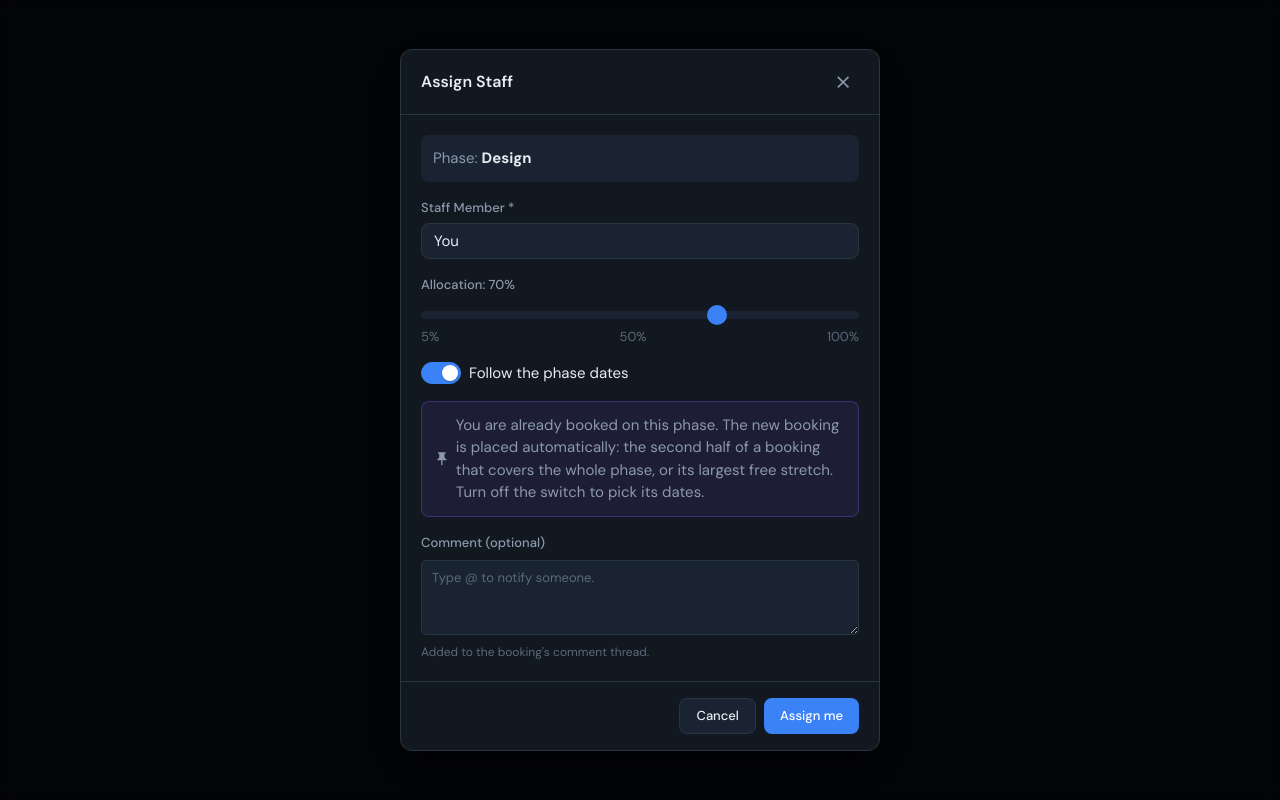
Test: AssignmentModal: my own second booking ("Assign me again…") › sends both dates with the switch off, and shows a refused placement with the dialog still open
Click the switch labelled "Follow the phase dates" at x=428, y=374, box x1=420 y1=366 x2=436 y2=382
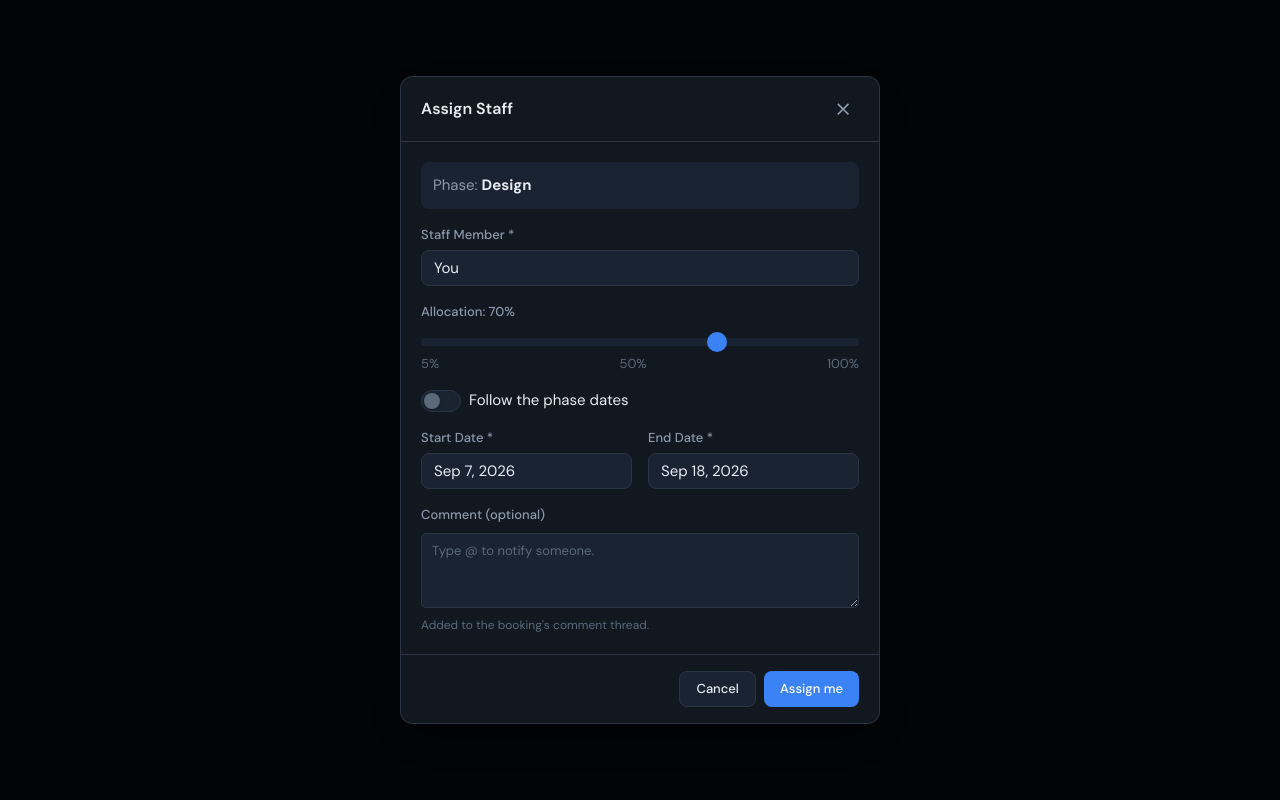
Click the button "Assign me" at x=812, y=688, box x1=764 y1=670 x2=859 y2=706
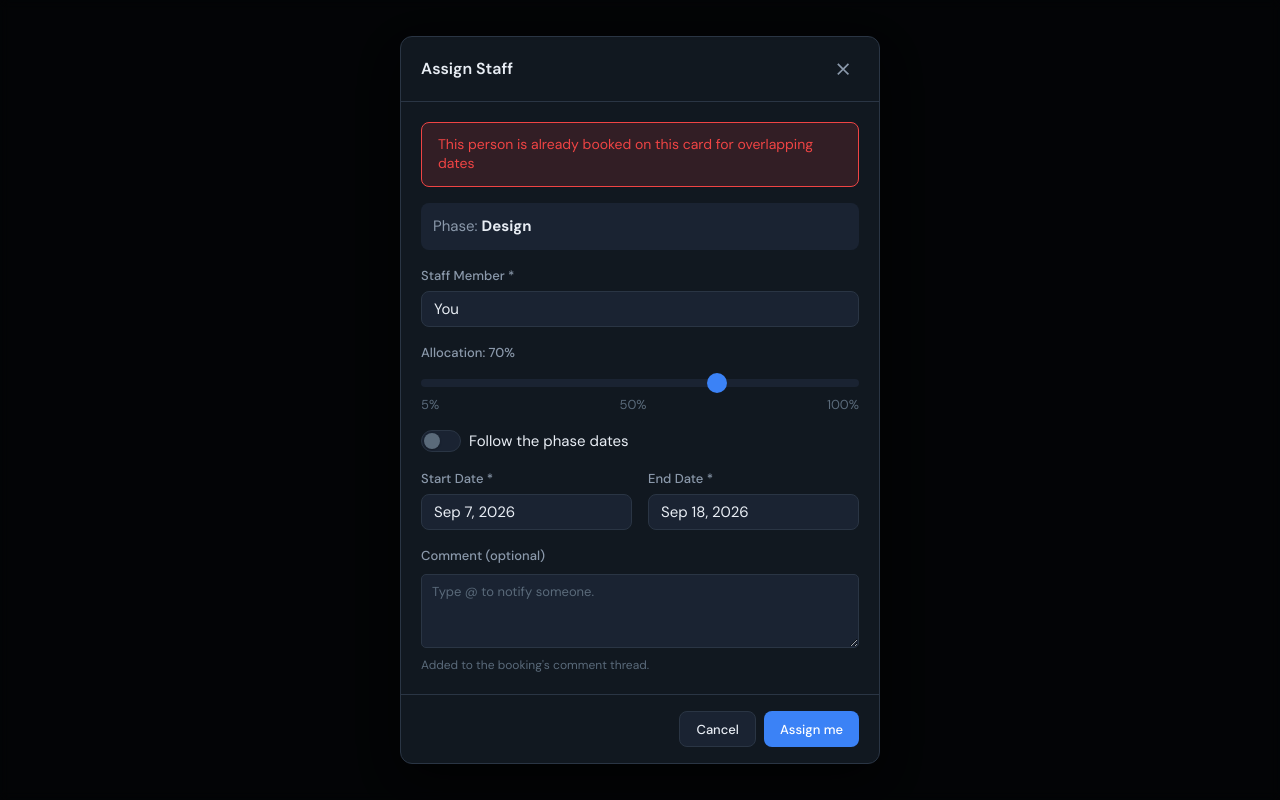
Check: the message reads "This person is already booked on this card for overlapping dates", box x1=438 y1=135 x2=813 y2=172
